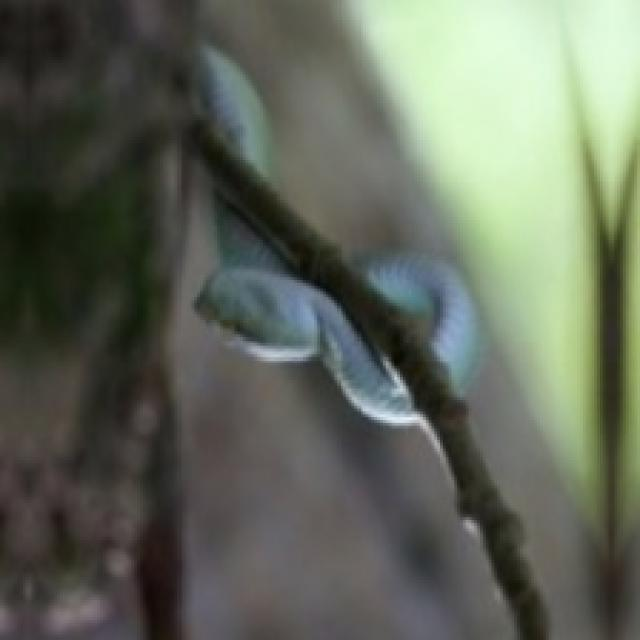north ph temple pitviper: (197, 203, 426, 429), (363, 254, 477, 389), (197, 43, 271, 174)
